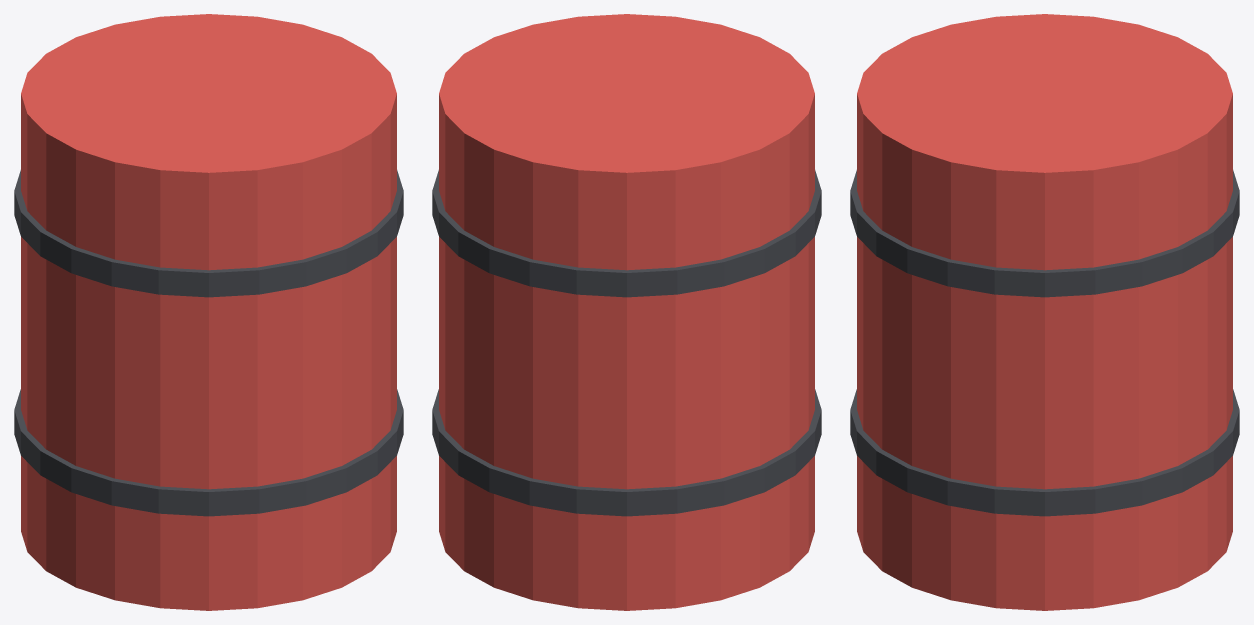
File: Barrel.fbx
3 views of the same model, side by side, from view 1: azimuth 30°, elevation 25°; view 2: azimuth 150°, elevation 25°; view 3: azimuth 270°, elevation 25° (orthographic).
Parts seen in each view (by area): view 1: Accent.001, Dark.006; view 2: Accent.001, Dark.006; view 3: Accent.001, Dark.006.
Part boxes in pixels (x1,y1,x2,y2): Accent.001: (21,14,396,610); Dark.006: (14,170,403,516); Accent.001: (439,14,814,610); Dark.006: (432,170,821,516); Accent.001: (857,14,1232,610); Dark.006: (850,170,1239,516).
Size of the model in its own units: 2.9 by 3.6 by 2.9.
